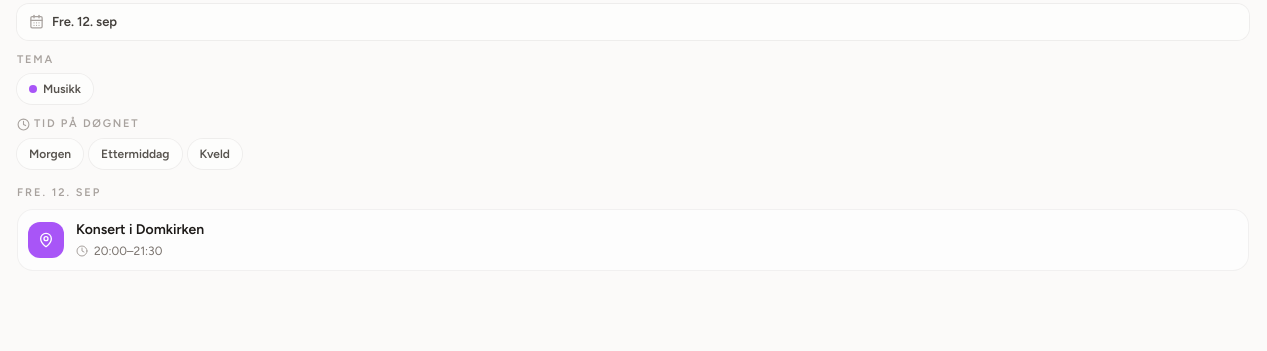
Test: EventDetailPanel (Unit 6, R15) › D7: venue MED stopp-ID → transport-rad viser live avgangsdata
Step 1. Click the text "Konsert i Domkirken" → point(140, 230), box [76,221,204,238]
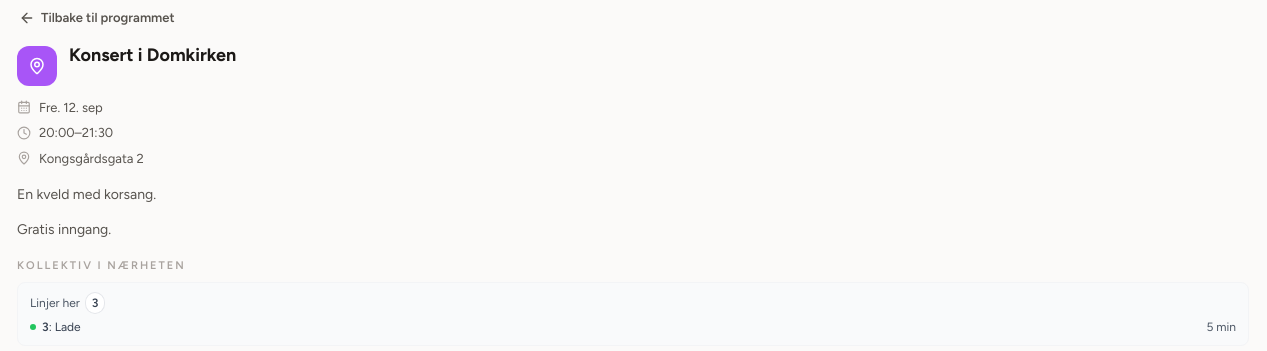
Expected: the text "Kollektiv i nærheten" is shown, [17,258,186,272]
Expected: the text "3" is shown 2 times, [86,293,104,313]; [42,320,49,334]
Expected: the text "3: Lade" is shown, [42,320,81,334]
